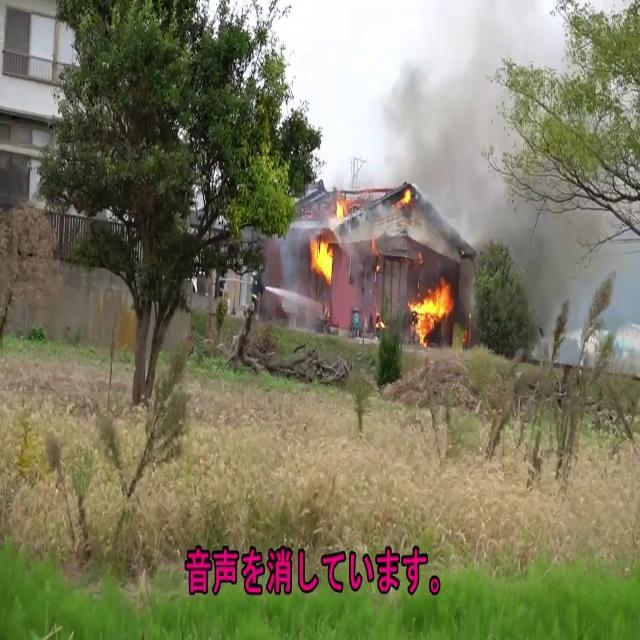Fire: (404, 273, 456, 344), (306, 226, 338, 284)
Smoke: (326, 1, 515, 212)
